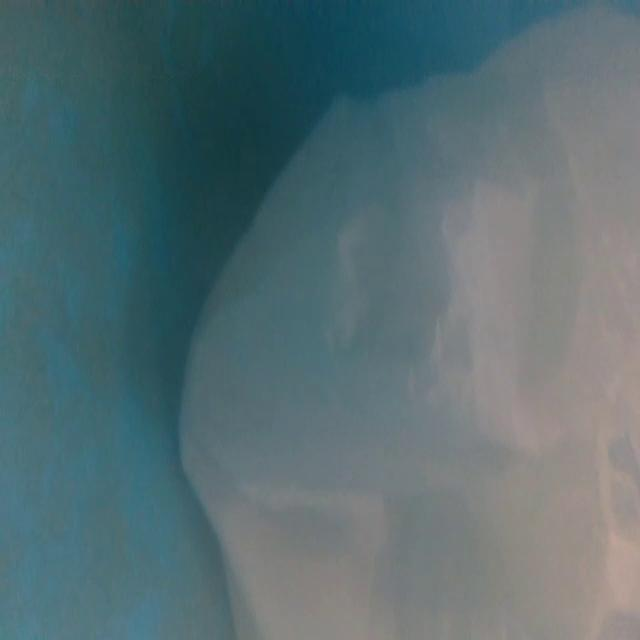plastic bags: (172, 17, 640, 640)
